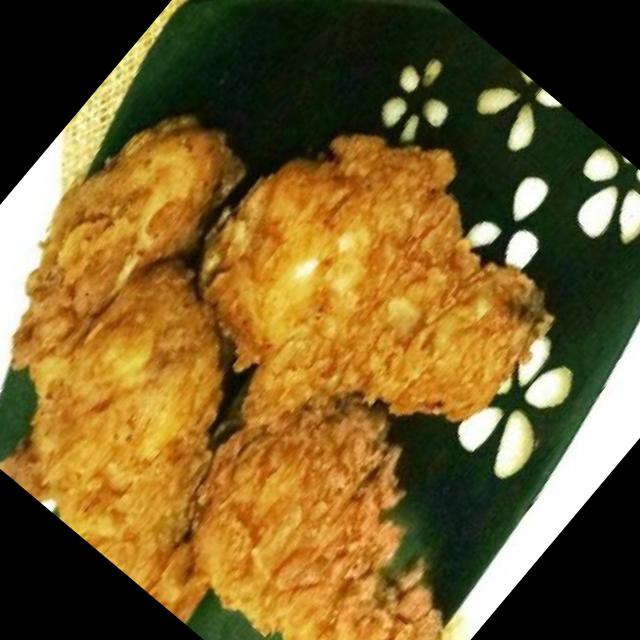Fried Chicken: (0, 123, 555, 640)
